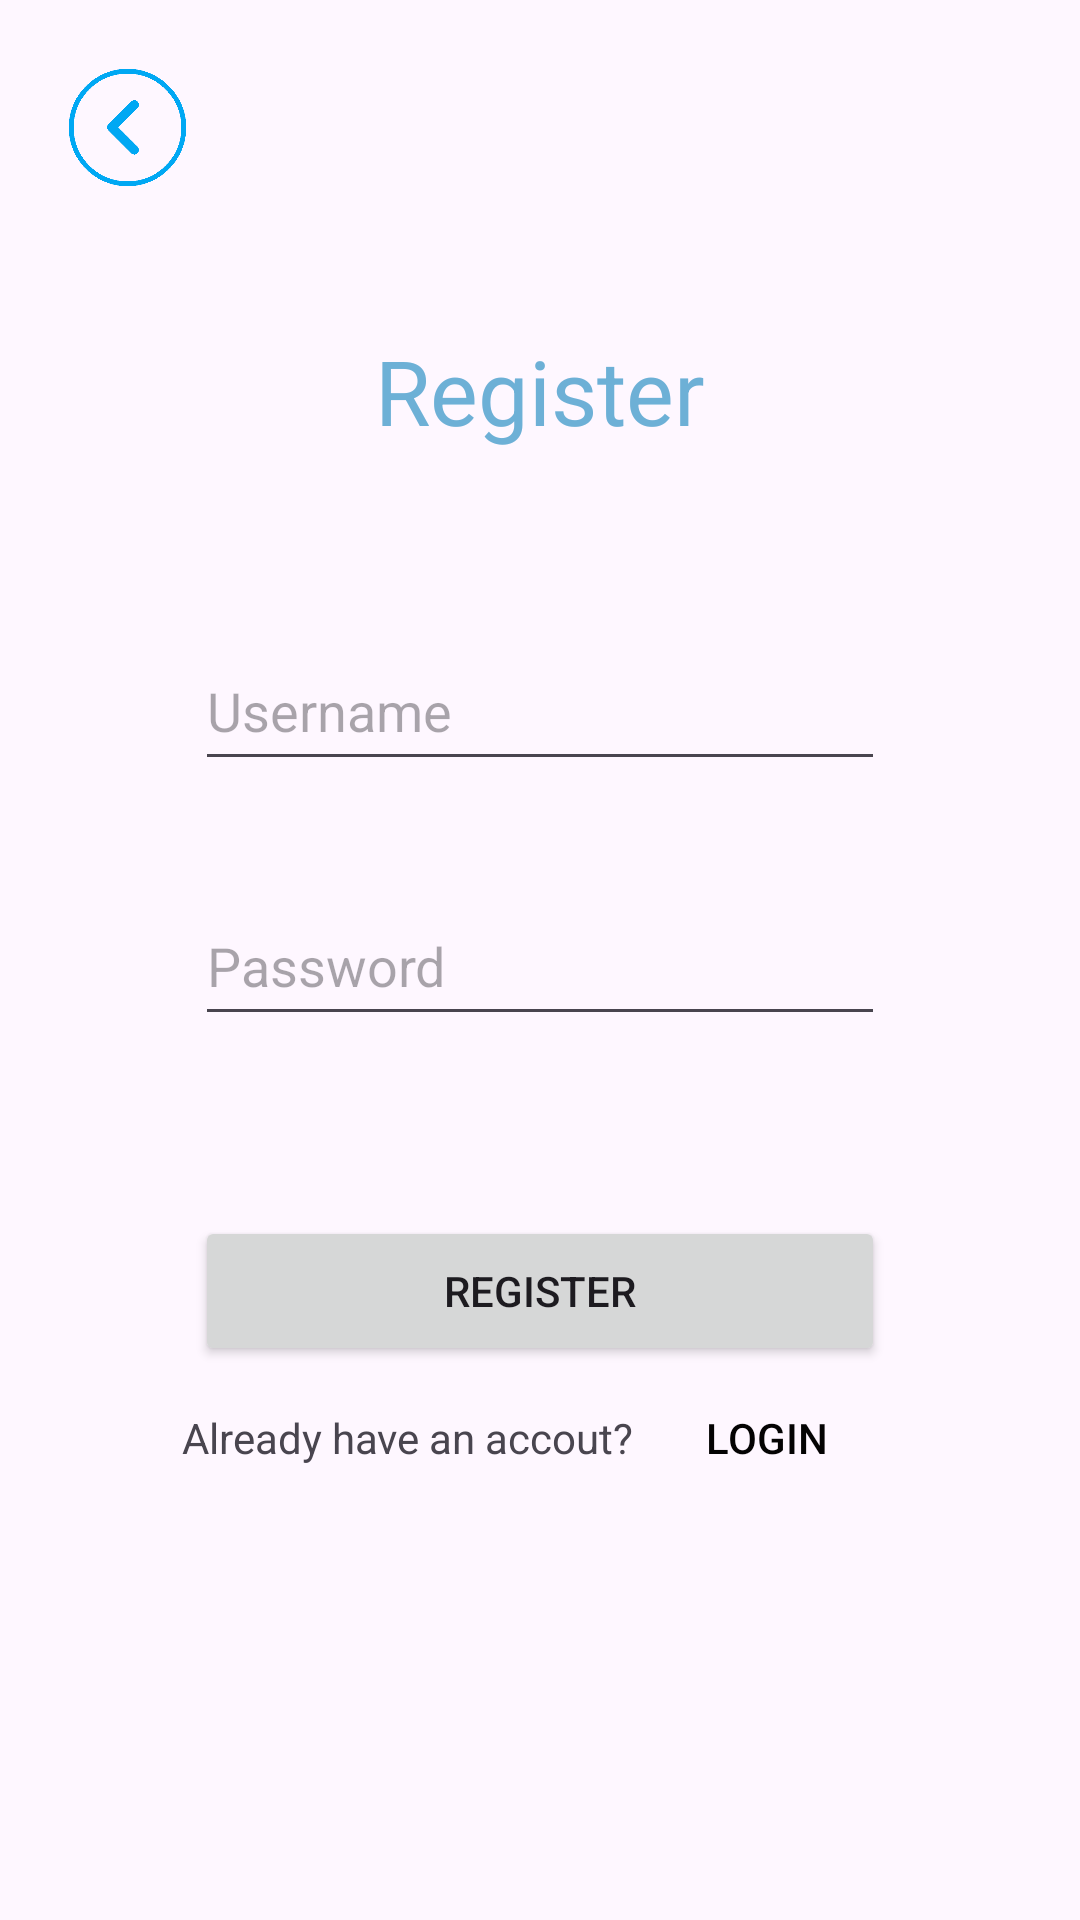

Screen size 1080x1920. Icon name, then its box in pixels as {"x1": x1, "y1": y1, "x2": x2, "y2": y2}:
back: {"x1": 69, "y1": 69, "x2": 186, "y2": 186}
